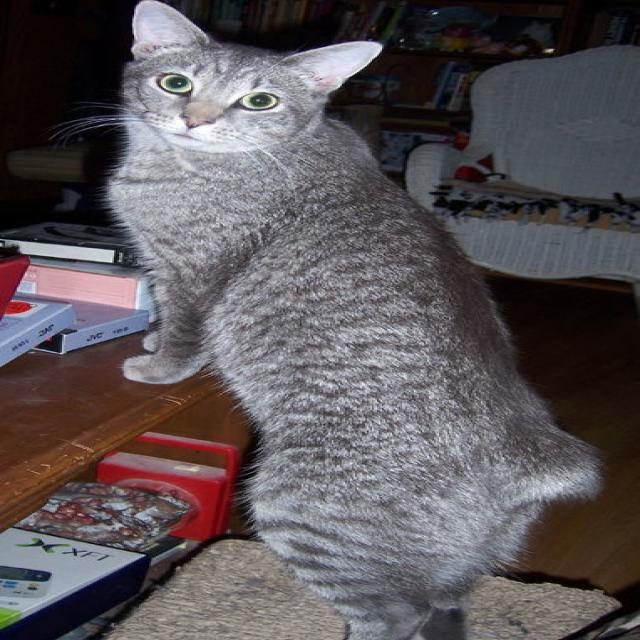manx_cat: (80, 0, 401, 164)
